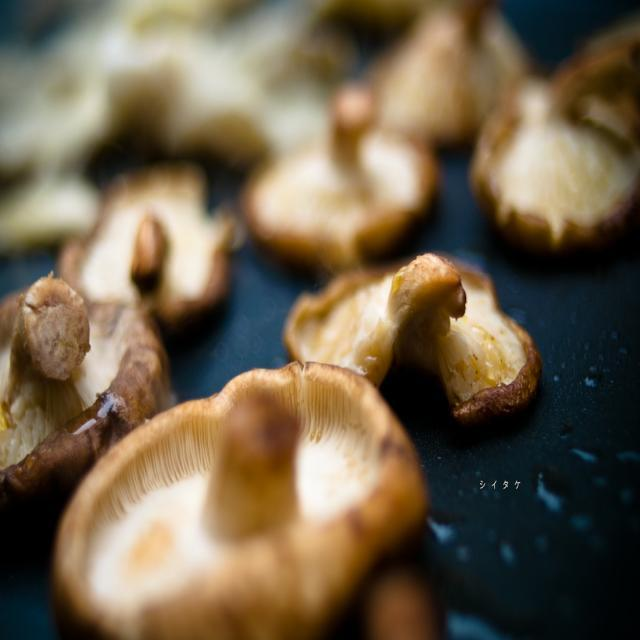Lentinus edodes: (60, 363, 428, 638), (0, 277, 168, 521), (286, 253, 539, 412), (473, 19, 640, 244), (243, 89, 432, 264), (65, 173, 237, 318)
